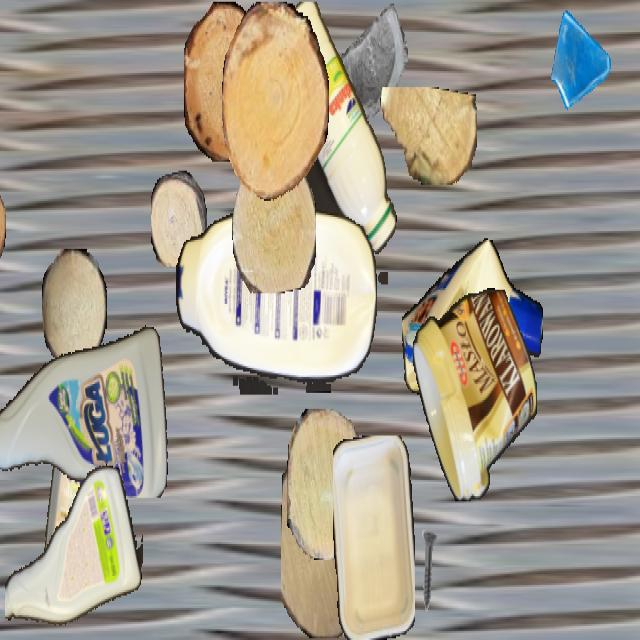glass: (336, 2, 408, 130), (549, 1, 613, 116)
metal: (346, 439, 406, 546), (404, 528, 452, 613)
plastic: (176, 210, 376, 394), (268, 1, 398, 282), (0, 313, 171, 498), (412, 288, 536, 501), (5, 457, 143, 638), (402, 237, 542, 407), (333, 436, 415, 638), (39, 386, 105, 602)
wood: (222, 2, 328, 201), (281, 439, 369, 638), (184, 2, 266, 162), (232, 150, 316, 292), (287, 409, 367, 558), (379, 87, 477, 183), (42, 249, 106, 363), (151, 170, 207, 266), (0, 174, 5, 270)
